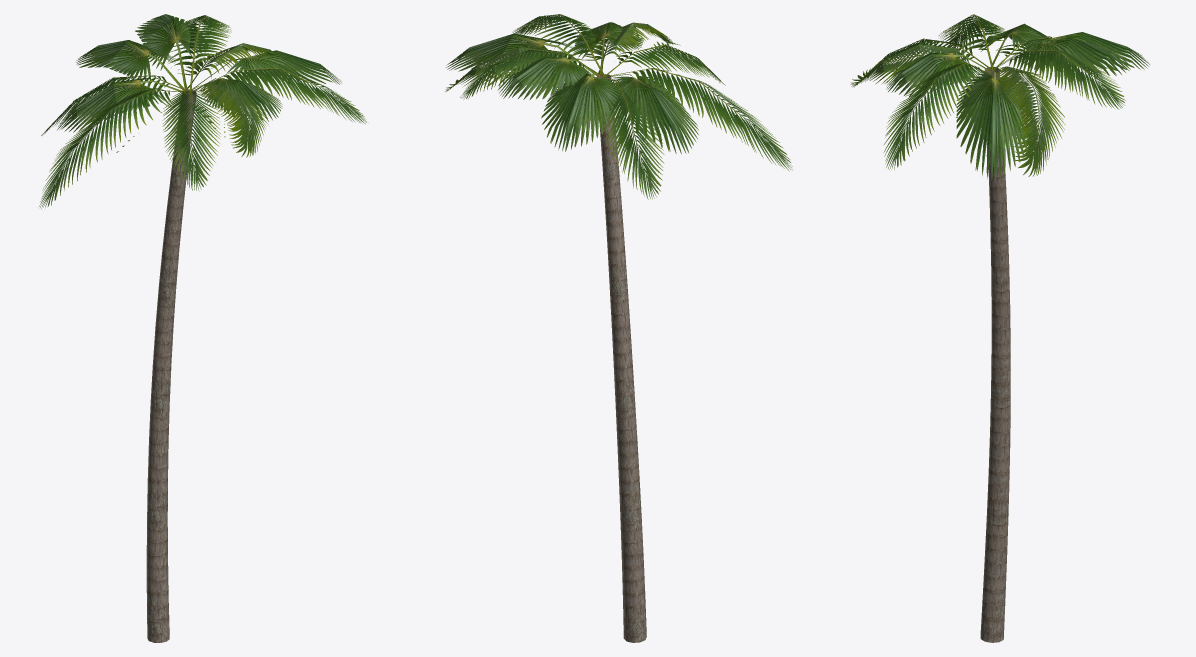
File: palm_02.glb
3 views of the same model, side by side, from view 1: azimuth 30°, elevation 25°; view 2: azimuth 150°, elevation 25°; view 3: azimuth 270°, elevation 25° (orthographic). The views are drawn at different scales.
Visible parts, largest first — view 1: palm_02; view 2: palm_02; view 3: palm_02.
Boxes of the visible parts, <box> form: palm_02: <box>39,14,366,642</box>; palm_02: <box>445,14,792,642</box>; palm_02: <box>850,14,1149,642</box>.
Bounding box in the file's own units: 6.81 × 10.76 × 5.35.
2 materials, 2 textured.
